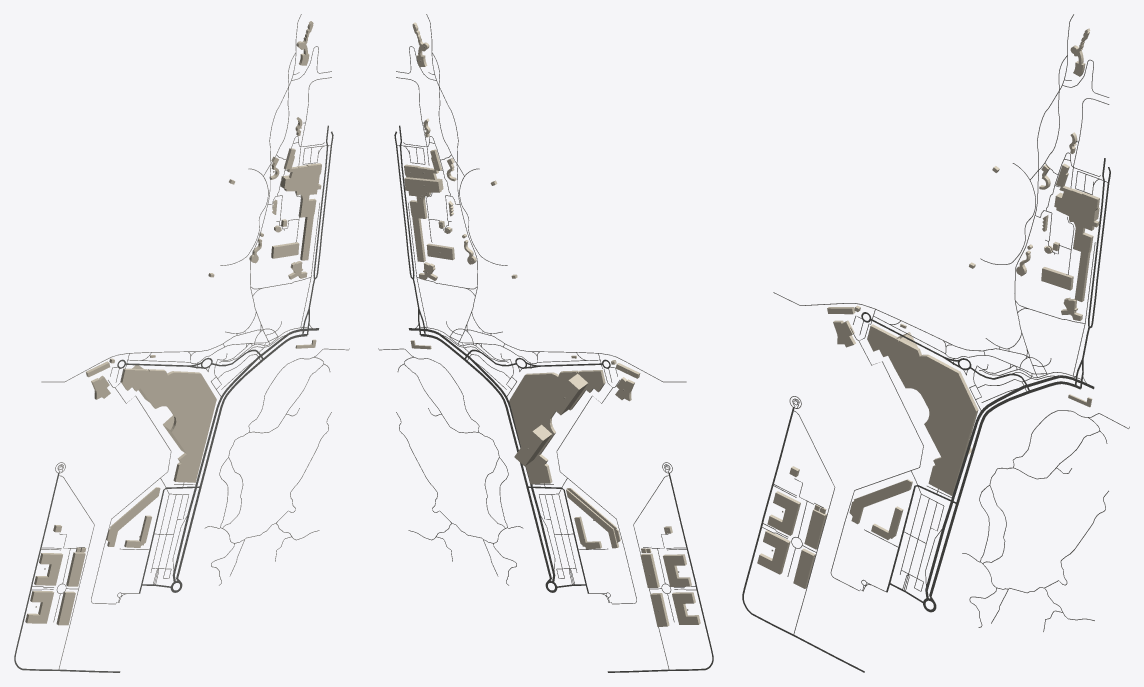
File: historic-palestine-06_27_3479_3216.glb
3 renders of one model, left to right at view 1: azimuth 30°, elevation 25°; view 2: azimuth 150°, elevation 25°; view 3: azimuth 330°, elevation 25°, orthographic. The views are drawn at different scales.
Visible parts, largest first — view 1: Building_, Building_.026, Road השונית, Building_.002, Building_.006, Road העוגן.001, Building_.015, Road השונית.002; view 2: Building_, Building_.026, Building_.007, Building_.015, Building_.006, Building_.002, Road העוגן.001, Road השונית, Building_.035; view 3: Building_, Building_.026, Building_.002, Building_.006, Road השונית, Road העוגן.001, Building_.036, Road השונית.002, Building_.015.
Part boxes in pixels (box(x1,y1,x2,y2)): Building_: box(120, 368, 216, 482); Building_.026: box(282, 165, 321, 259); Road השונית: box(176, 367, 253, 583); Building_.002: box(25, 591, 54, 623); Building_.006: box(34, 553, 62, 585); Road העוגן.001: box(14, 473, 120, 672); Building_.015: box(163, 415, 202, 457); Road השונית.002: box(172, 380, 235, 581); Building_: box(509, 370, 605, 484); Building_.026: box(404, 166, 442, 262); Building_.007: box(550, 373, 587, 415); Building_.015: box(514, 424, 551, 466); Building_.006: box(663, 554, 691, 586); Building_.002: box(672, 592, 700, 624); Road העוגן.001: box(607, 473, 713, 672); Road השונית: box(474, 367, 551, 583); Building_.035: box(566, 489, 618, 548); Building_: box(867, 324, 978, 495); Building_.026: box(1056, 186, 1099, 301); Building_.002: box(757, 530, 790, 574); Building_.006: box(767, 491, 800, 535); Road השונית: box(929, 395, 1018, 603); Road העוגן.001: box(742, 407, 864, 672); Building_.036: box(849, 479, 911, 522); Road השונית.002: box(925, 399, 997, 599); Building_.015: box(927, 421, 971, 465).
Size of the model in its own units: 753 by 1317 by 44.6.
